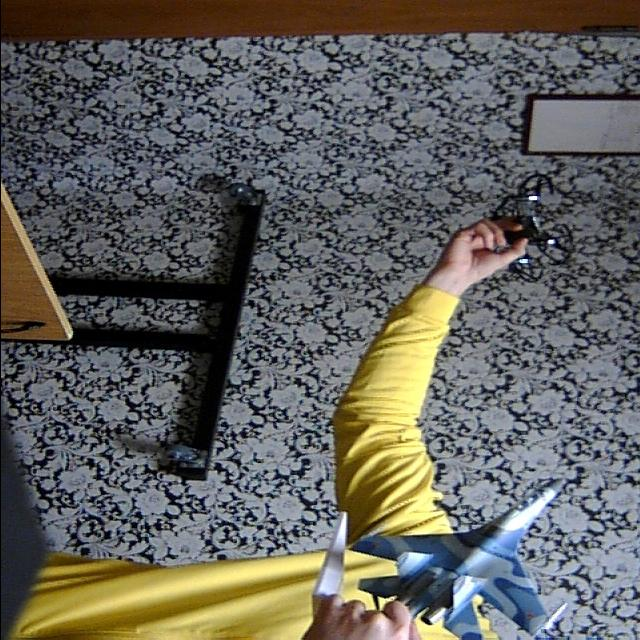drone: (489, 162, 584, 293)
